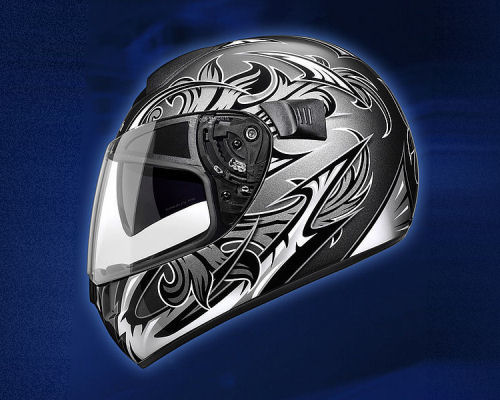helmet: (101, 34, 432, 301)
